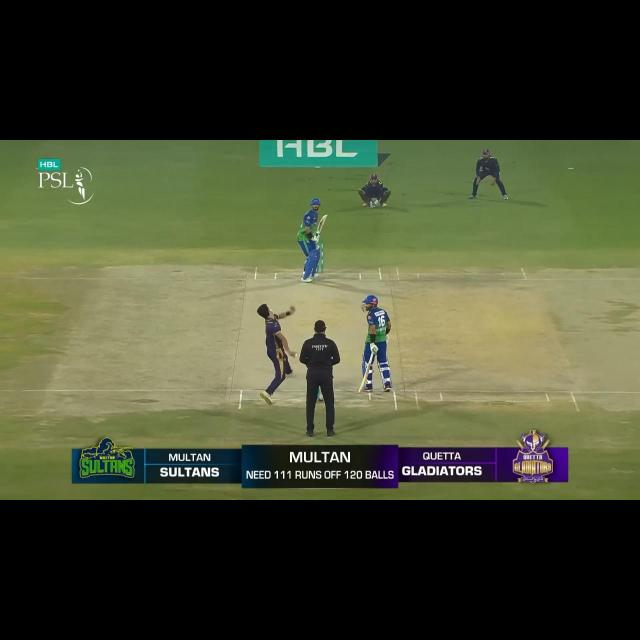bat: (358, 363, 372, 393), (316, 214, 328, 233)
toe: (358, 385, 364, 393), (322, 214, 328, 219)
